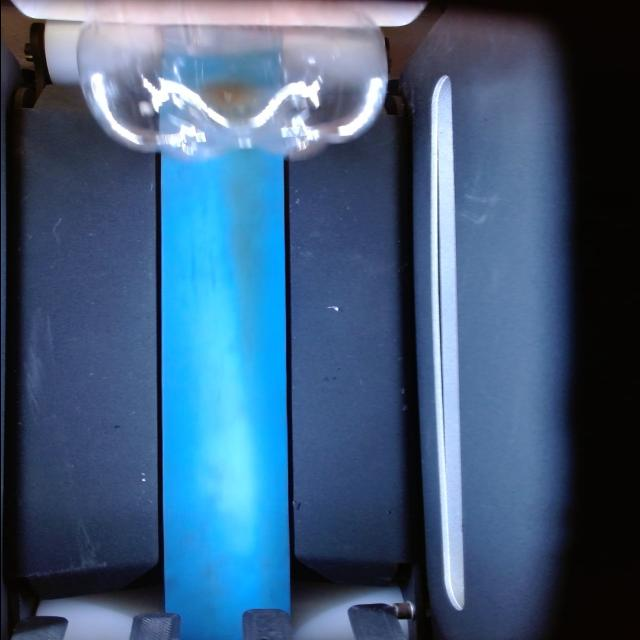bottom: (59, 40, 407, 164)
